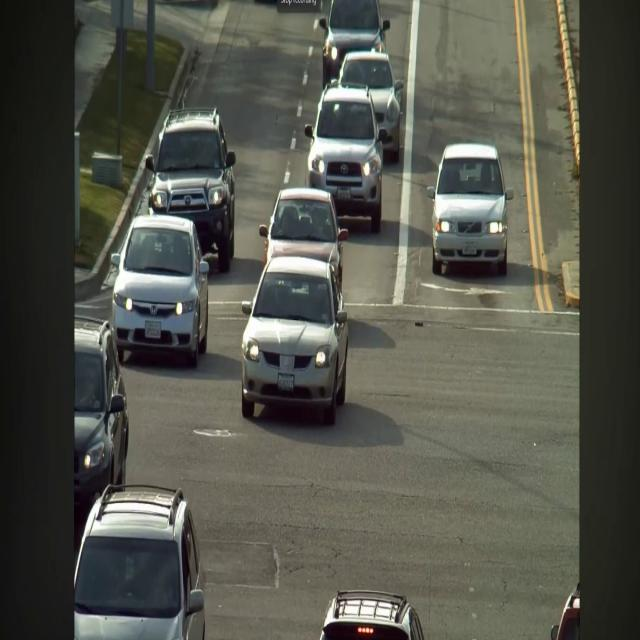car: (74, 485, 204, 639), (242, 256, 348, 424), (145, 108, 235, 272), (111, 216, 208, 367), (304, 84, 386, 233), (427, 143, 513, 275), (74, 315, 128, 509), (259, 188, 348, 291), (338, 50, 403, 161), (319, 0, 390, 87), (320, 591, 424, 639), (551, 584, 580, 639)
